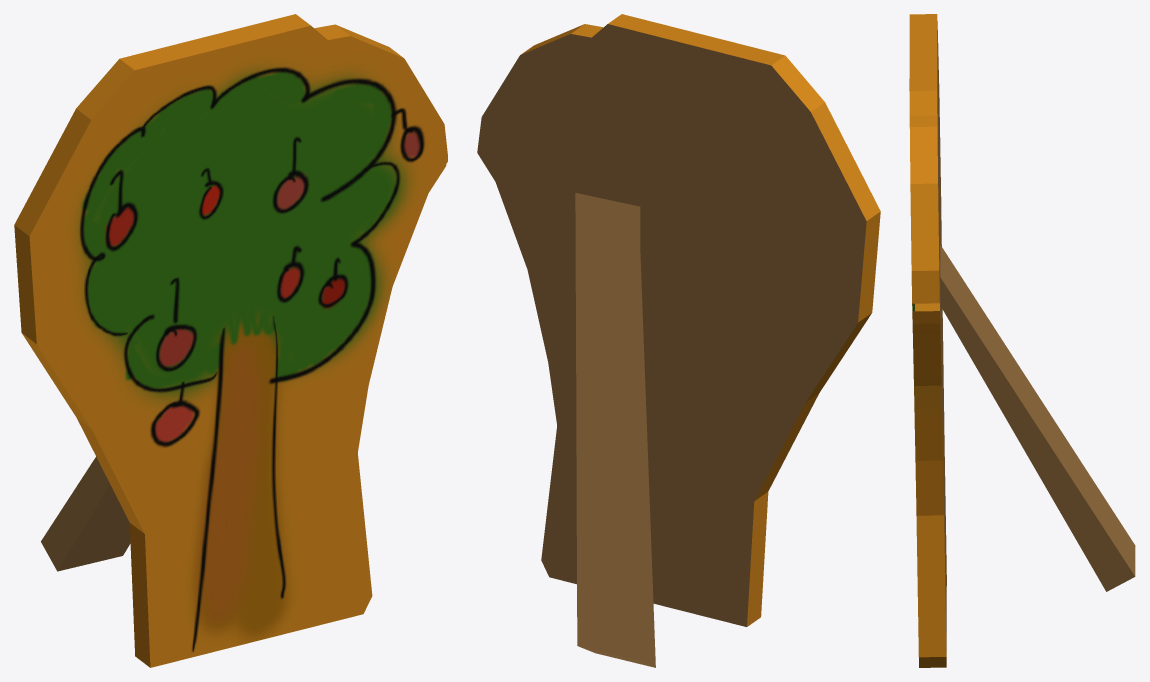
The model's file is Baum_3.fbx.
3 renders of one model, left to right at view 1: azimuth 30°, elevation 25°; view 2: azimuth 150°, elevation 25°; view 3: azimuth 270°, elevation 25°, orthographic. The views are drawn at different scales.
Parts seen in each view (by area): view 1: Plane; view 2: Plane; view 3: Plane.
Boxes of the visible parts, bbox=[...] form: Plane: bbox=[14, 14, 447, 667]; Plane: bbox=[477, 14, 880, 667]; Plane: bbox=[909, 14, 1135, 667].
Bounding box in the file's own units: 70.19 × 97.35 × 36.03.
2 materials, 1 textured.
